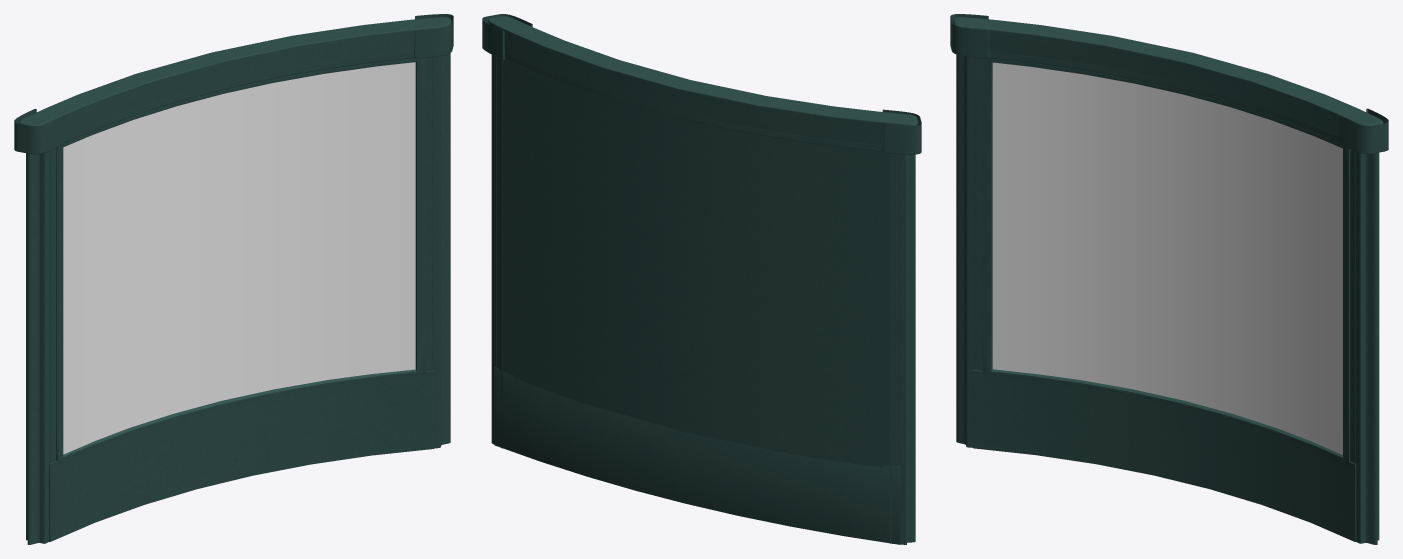
File: Bended_Floorstand_Billboard.fbx
The picture shows the model from 3 angles, left to right: view 1: azimuth 30°, elevation 25°; view 2: azimuth 150°, elevation 25°; view 3: azimuth 330°, elevation 25°; orthographic projection.
Visible parts, largest first — view 1: Bended_Floorstand_Billboard_Ad001, Bended_Floorstand_Billboard_Frame; view 2: Bended_Floorstand_Billboard_Frame; view 3: Bended_Floorstand_Billboard_Ad001, Bended_Floorstand_Billboard_Frame.
Boxes of the visible parts, box(x1,y1,x2,y2) form: Bended_Floorstand_Billboard_Ad001: box(63, 62, 415, 454); Bended_Floorstand_Billboard_Frame: box(14, 14, 453, 544); Bended_Floorstand_Billboard_Frame: box(482, 14, 921, 544); Bended_Floorstand_Billboard_Ad001: box(992, 62, 1342, 454); Bended_Floorstand_Billboard_Frame: box(950, 14, 1388, 544).
Bounding box in the file's own units: 37.28 × 34.34 × 5.14.
Materials: 2 (2 with a texture image).
